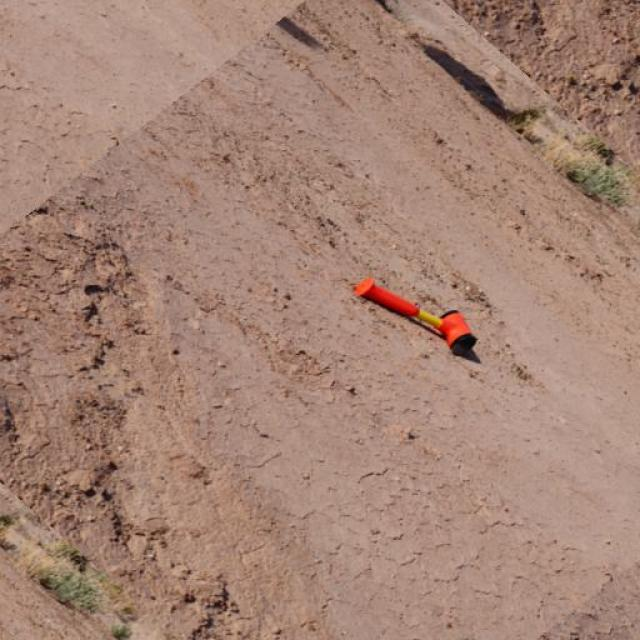mallet: (352, 276, 478, 356)
